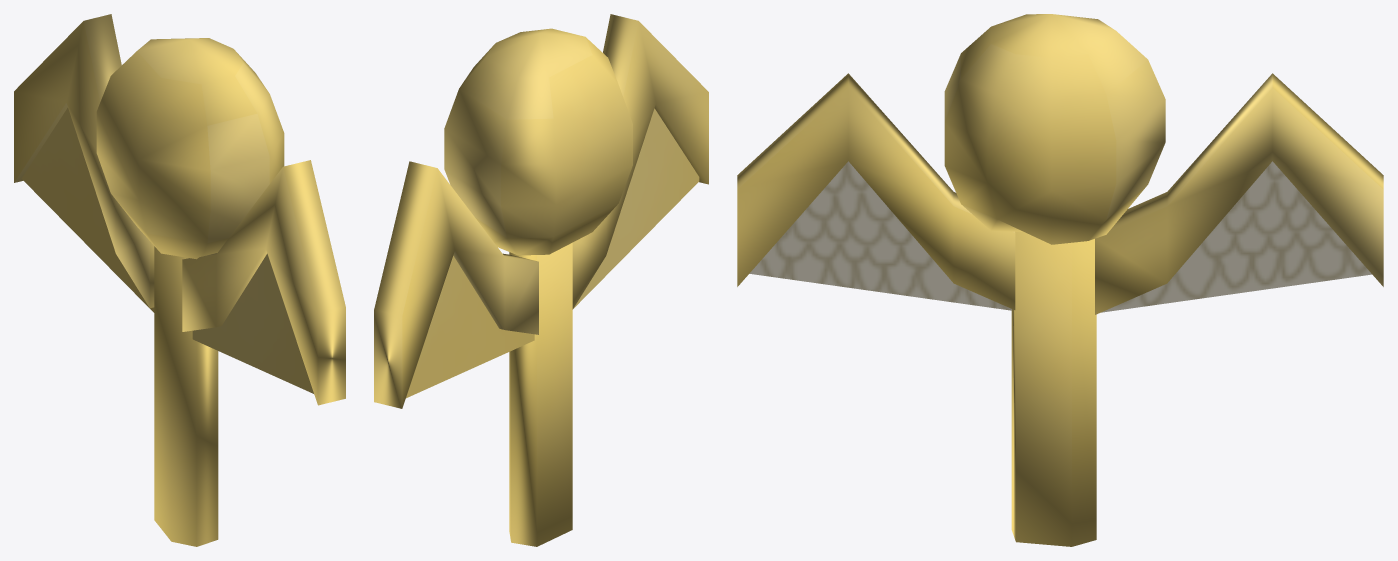
Rendered from Model_Health_1.fbx.
The picture shows the model from 3 angles, left to right: view 1: azimuth 30°, elevation 25°; view 2: azimuth 150°, elevation 25°; view 3: azimuth 270°, elevation 25°; orthographic projection. The views are drawn at different scales.
Parts seen in each view (by area): view 1: polySurface12; view 2: polySurface12; view 3: polySurface12.
Part boxes in pixels (x1,y1,x2,y2): polySurface12: (14, 14, 345, 546); polySurface12: (374, 14, 708, 546); polySurface12: (737, 14, 1383, 546).
Bounding box in the file's own units: 1.54 × 4.87 × 5.47.
4 materials, 3 textured.
